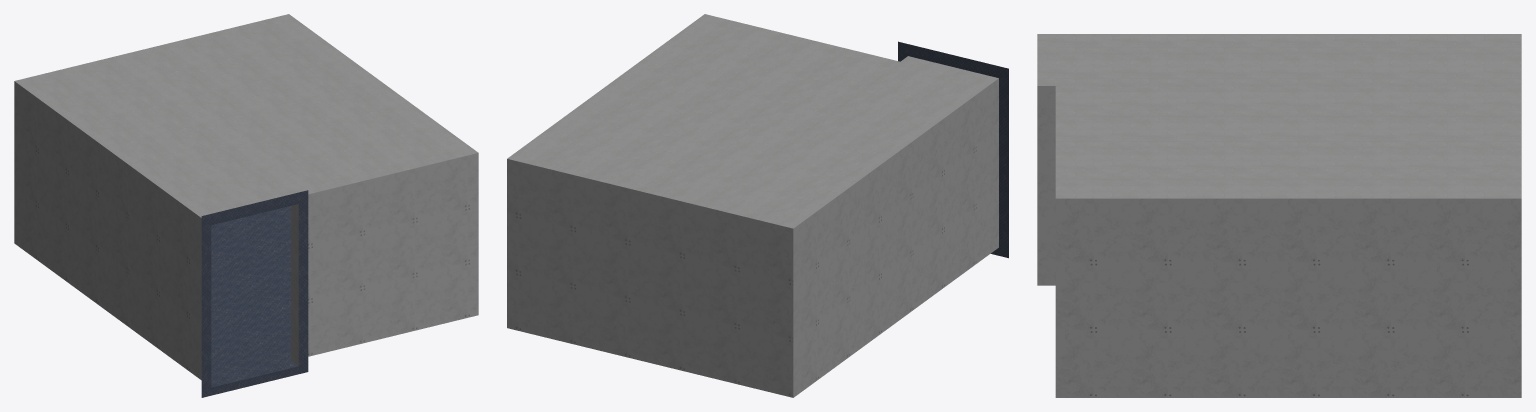
Rendered from lab_room.FBX.
3 views of the same model, side by side, from view 1: azimuth 30°, elevation 25°; view 2: azimuth 150°, elevation 25°; view 3: azimuth 270°, elevation 25° (orthographic). The views are drawn at different scales.
Parts seen in each view (by area): view 1: Tonnel; view 2: Tonnel; view 3: Tonnel.
Boxes of the visible parts, x1=… form: Tonnel: x1=14, y1=14, x2=478, y2=397; Tonnel: x1=507, y1=14, x2=1008, y2=397; Tonnel: x1=1037, y1=34, x2=1521, y2=397.
Size of the model in its own units: 2.64 by 1.61 by 3.17.
